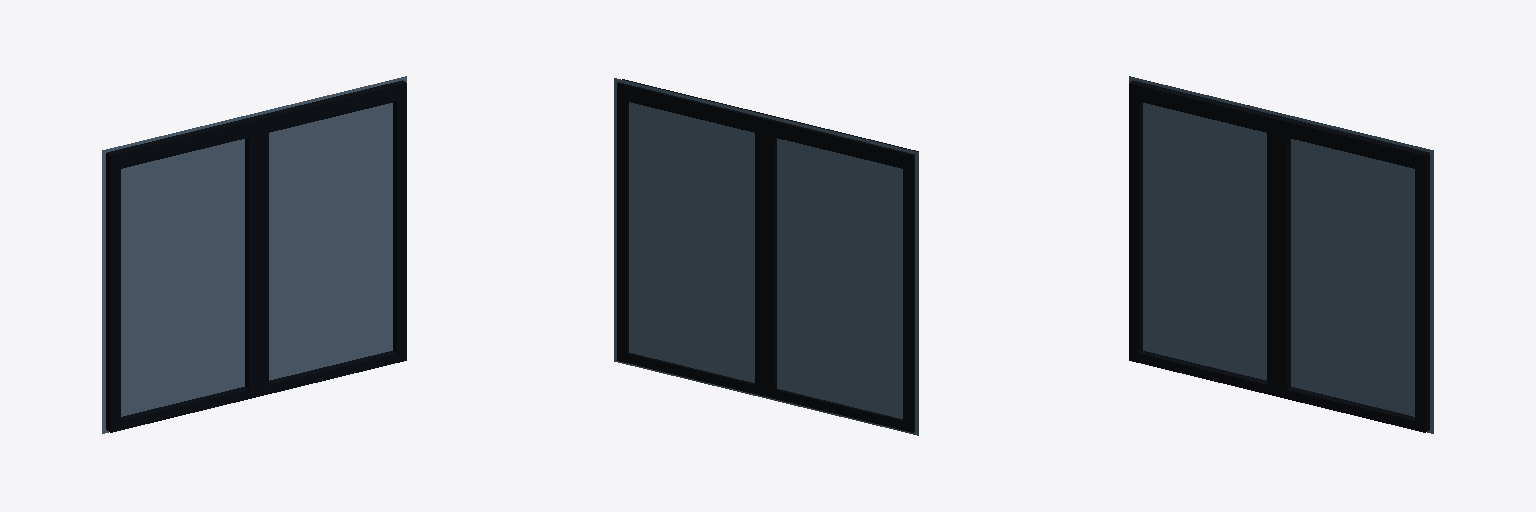
File: chuang2.obj
3 renders of one model, left to right at view 1: azimuth 30°, elevation 25°; view 2: azimuth 150°, elevation 25°; view 3: azimuth 330°, elevation 25°, orthographic.
Visible parts, largest first — view 1: Rectangle021, Rectangle020; view 2: Rectangle021, Rectangle020; view 3: Rectangle021, Rectangle020.
Boxes of the visible parts, x1,y1,x2,y2 form: Rectangle021: [102, 76, 406, 433]; Rectangle020: [106, 80, 406, 432]; Rectangle021: [614, 78, 918, 435]; Rectangle020: [617, 79, 918, 432]; Rectangle021: [1129, 76, 1433, 433]; Rectangle020: [1129, 80, 1429, 432].
Size of the model in its own units: 18 by 16 by 0.6.